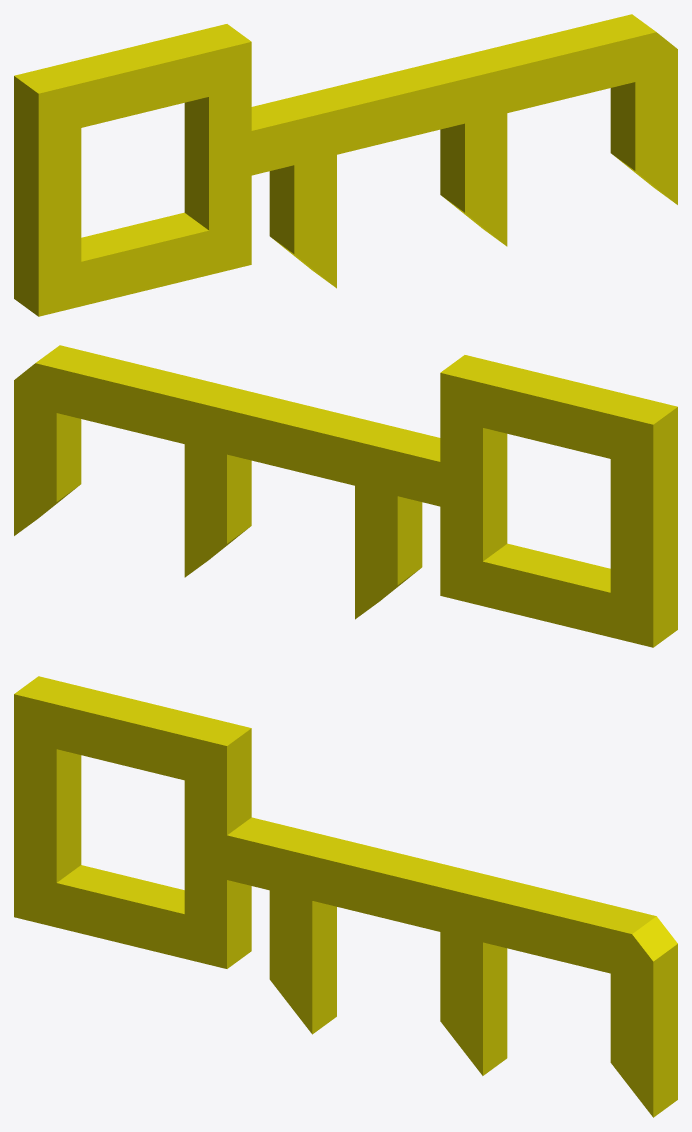
The model's file is Items.fbx_Key_22.fbx.
The picture shows the model from 3 angles, top to bottom: view 1: azimuth 30°, elevation 25°; view 2: azimuth 150°, elevation 25°; view 3: azimuth 330°, elevation 25°; orthographic projection.
Parts seen in each view (by area): view 1: Key 22; view 2: Key 22; view 3: Key 22.
Boxes of the visible parts, x1=… form: Key 22: x1=14, y1=14, x2=677, y2=316; Key 22: x1=14, y1=345, x2=677, y2=647; Key 22: x1=14, y1=676, x2=677, y2=1117.
Bounding box in the file's own units: 30 × 12 × 2.
